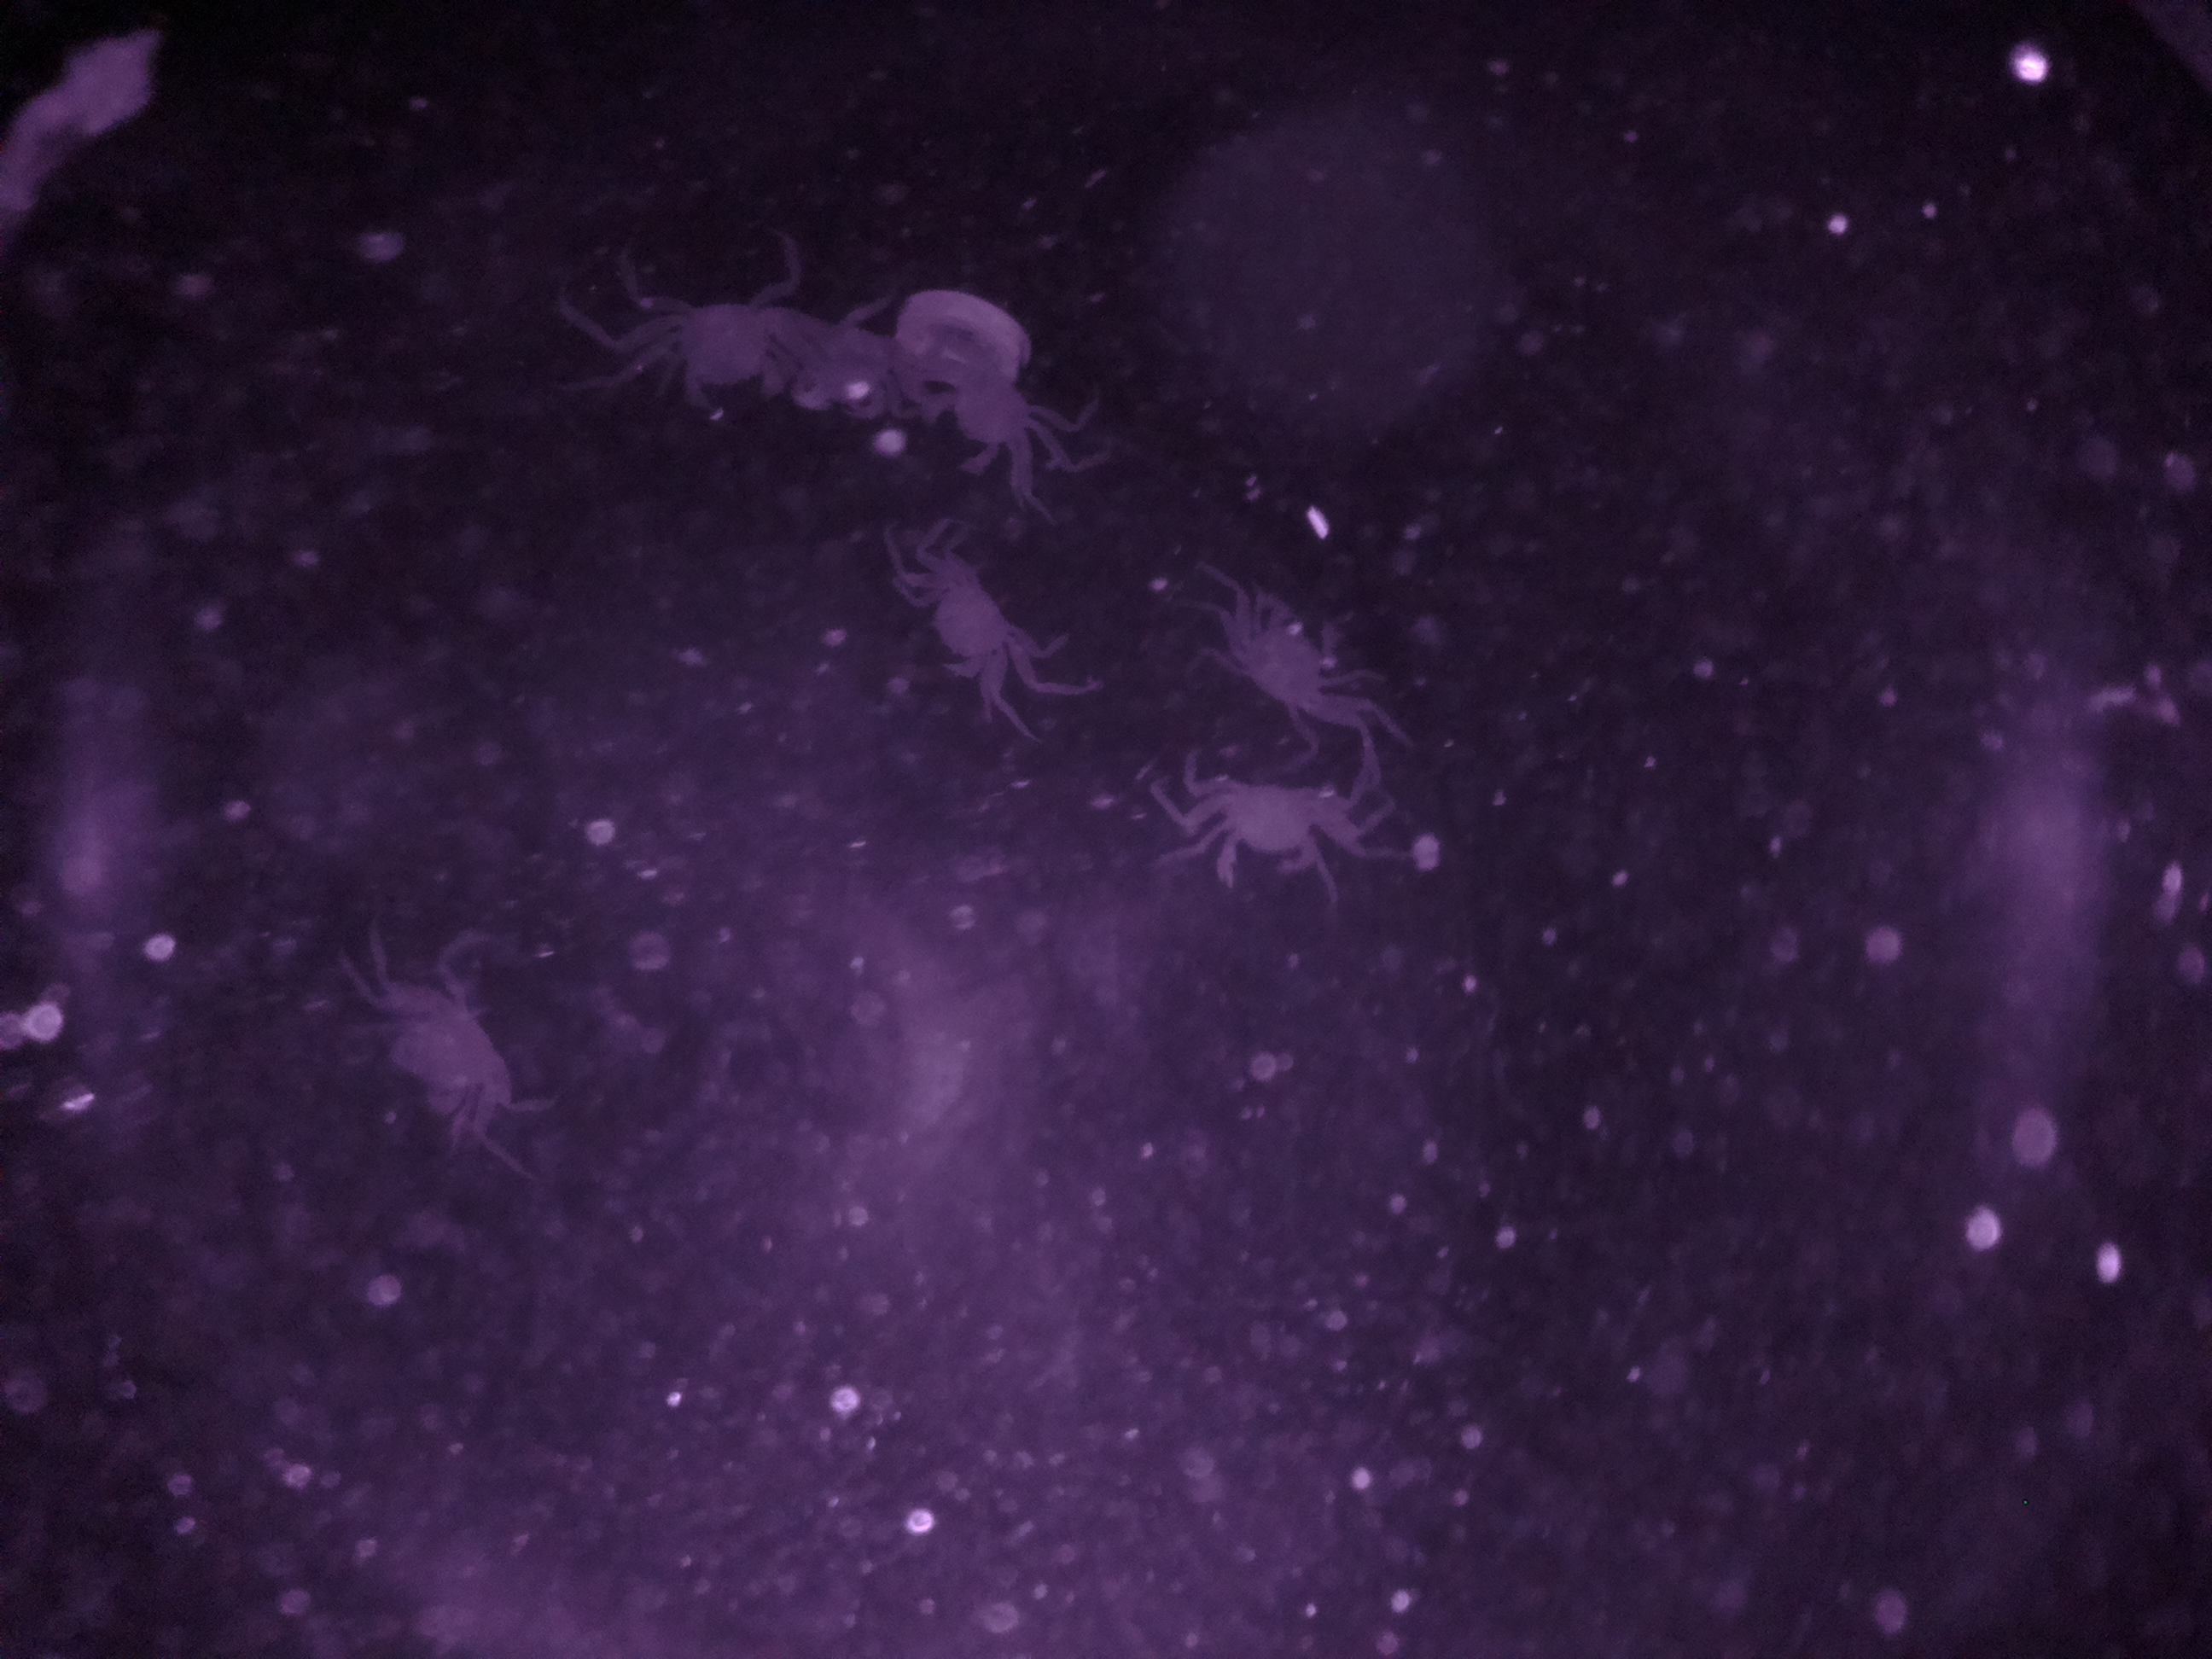Crab: (1193, 552, 1390, 746), (897, 528, 1073, 728), (1148, 746, 1369, 896)
